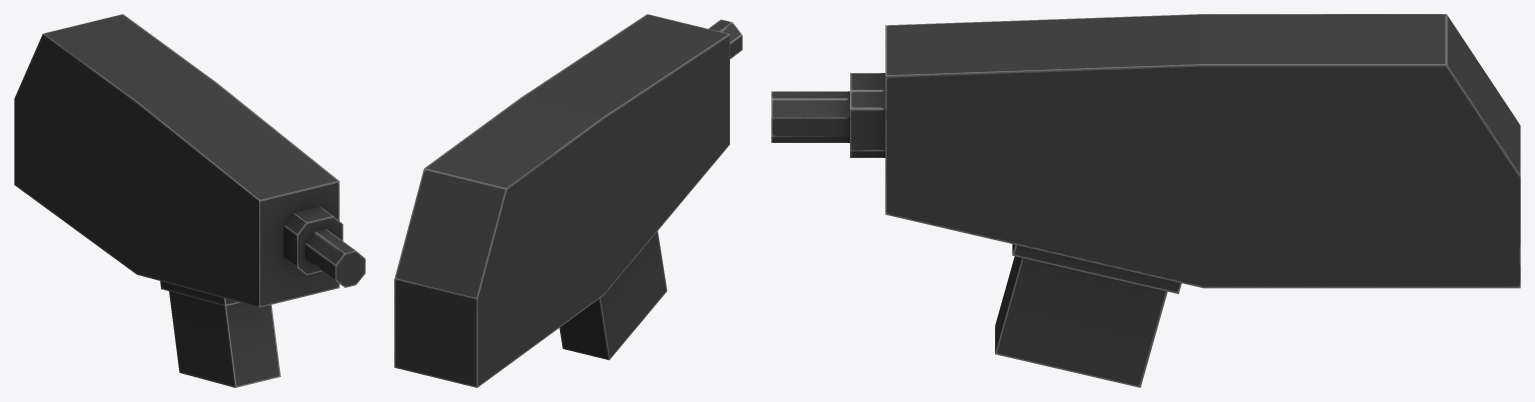
File: playerrifle.glb
3 renders of one model, left to right at view 1: azimuth 30°, elevation 25°; view 2: azimuth 150°, elevation 25°; view 3: azimuth 270°, elevation 25°, orthographic. The views are drawn at different scales.
Visible parts, largest first — view 1: Cube; view 2: Cube; view 3: Cube.
Boxes of the visible parts, x1,y1,x2,y2 form: Cube: (14,14,365,387); Cube: (394,14,742,387); Cube: (771,14,1520,387).
Size of the model in its own units: 0.3576 by 1.09 by 2.23.
1 material, 1 textured.
